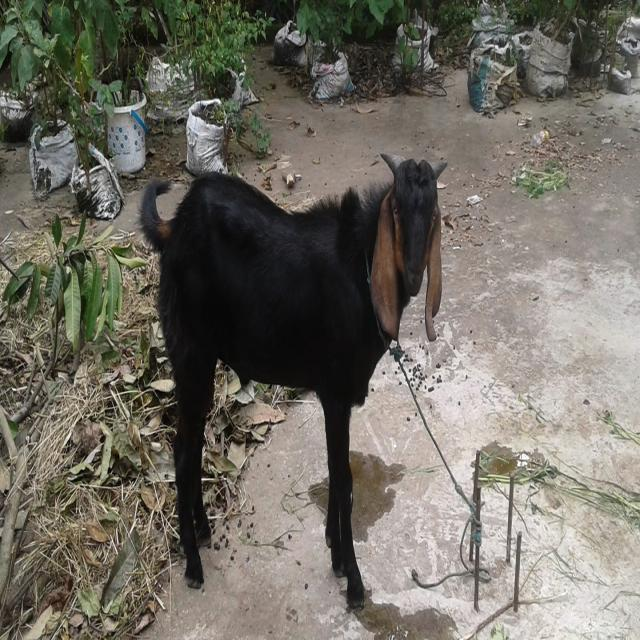Goat: (137, 151, 448, 610)
